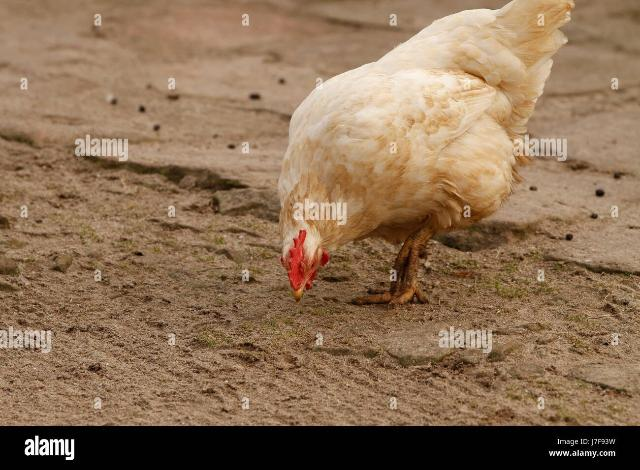Chicken: (276, 0, 574, 307)
